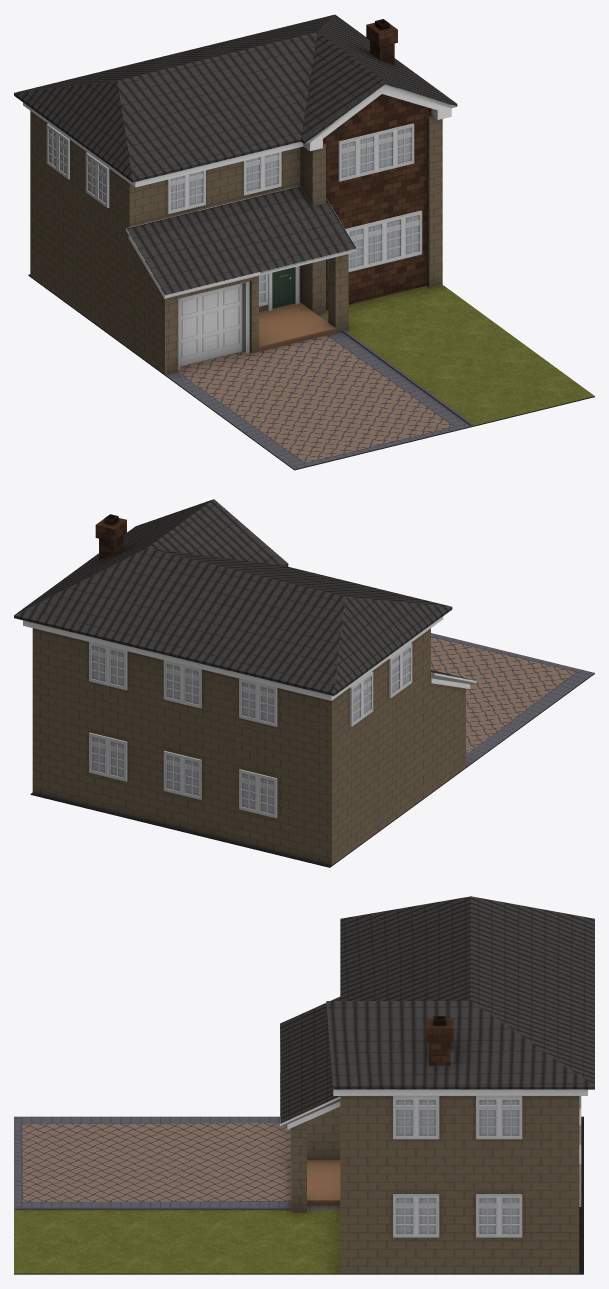
Rendered from house_with_driveway_free_model.glb.
3 views of the same model, one above another, from view 1: azimuth 30°, elevation 25°; view 2: azimuth 150°, elevation 25°; view 3: azimuth 270°, elevation 25° (orthographic). The views are drawn at different scales.
Visible parts, largest first — view 1: HouseWithDriveway_Mesh; view 2: HouseWithDriveway_Mesh; view 3: HouseWithDriveway_Mesh.
Part boxes in pixels (x1,y1,x2,y2): HouseWithDriveway_Mesh: (14,14,594,470); HouseWithDriveway_Mesh: (14,499,594,867); HouseWithDriveway_Mesh: (14,896,594,1274).
Bounding box in the file's own units: 23.31 × 16.15 × 34.1.
1 material, 1 textured.
